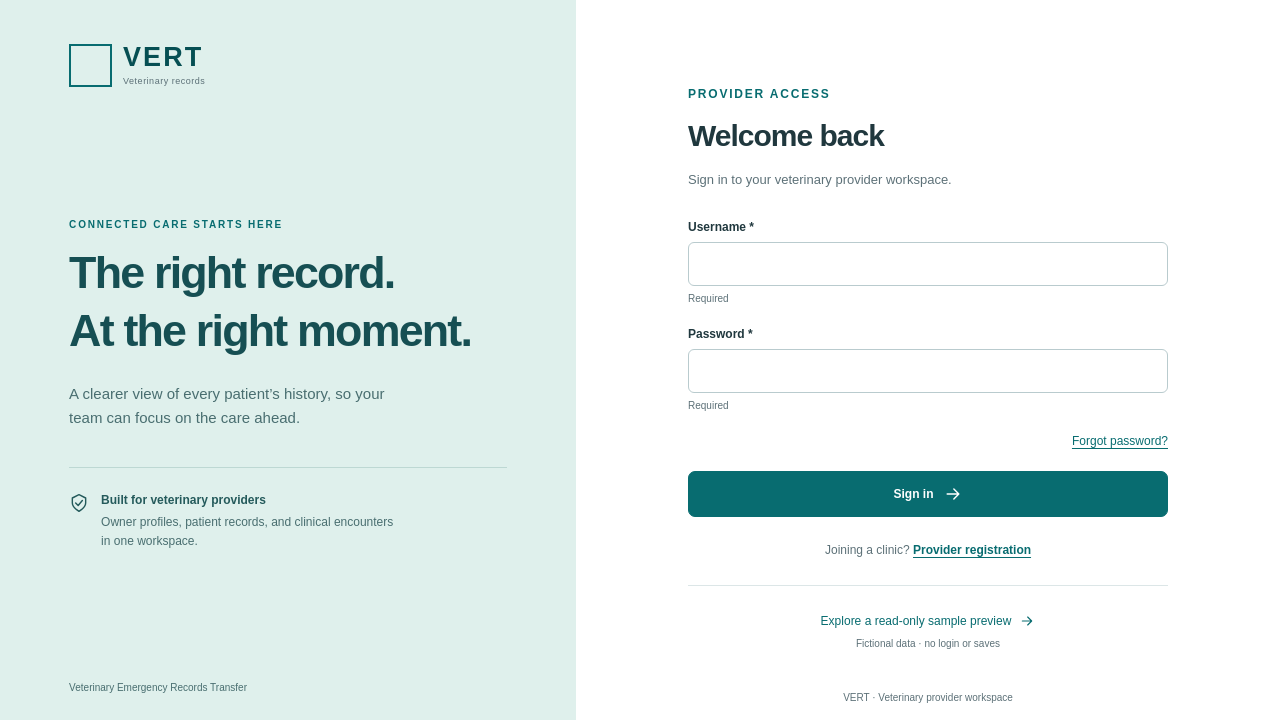
Scenario: provider navigation and integration states › validates login, handles auth failures, and never stores credentials
Click the button "Sign in" at (928,494), box [688,471,1168,517]
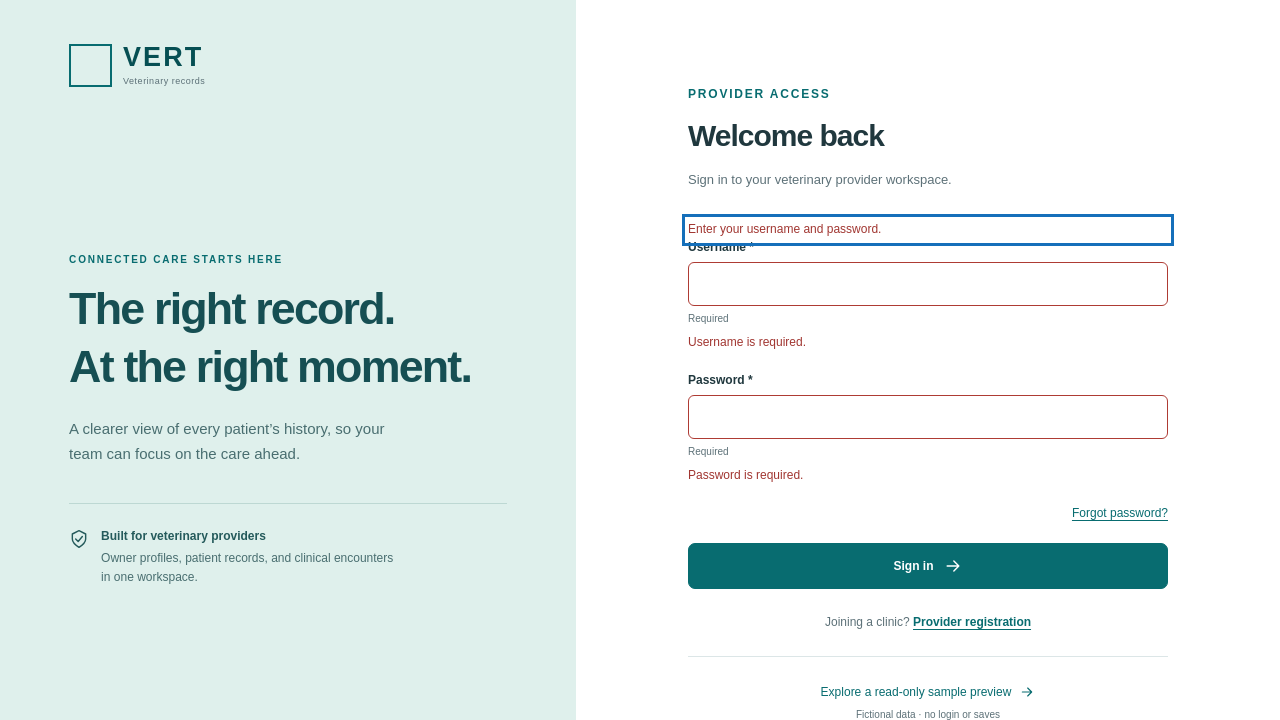
Type "provider" into the field labelled "Username *" at (928,284), box [688,262,1168,306]
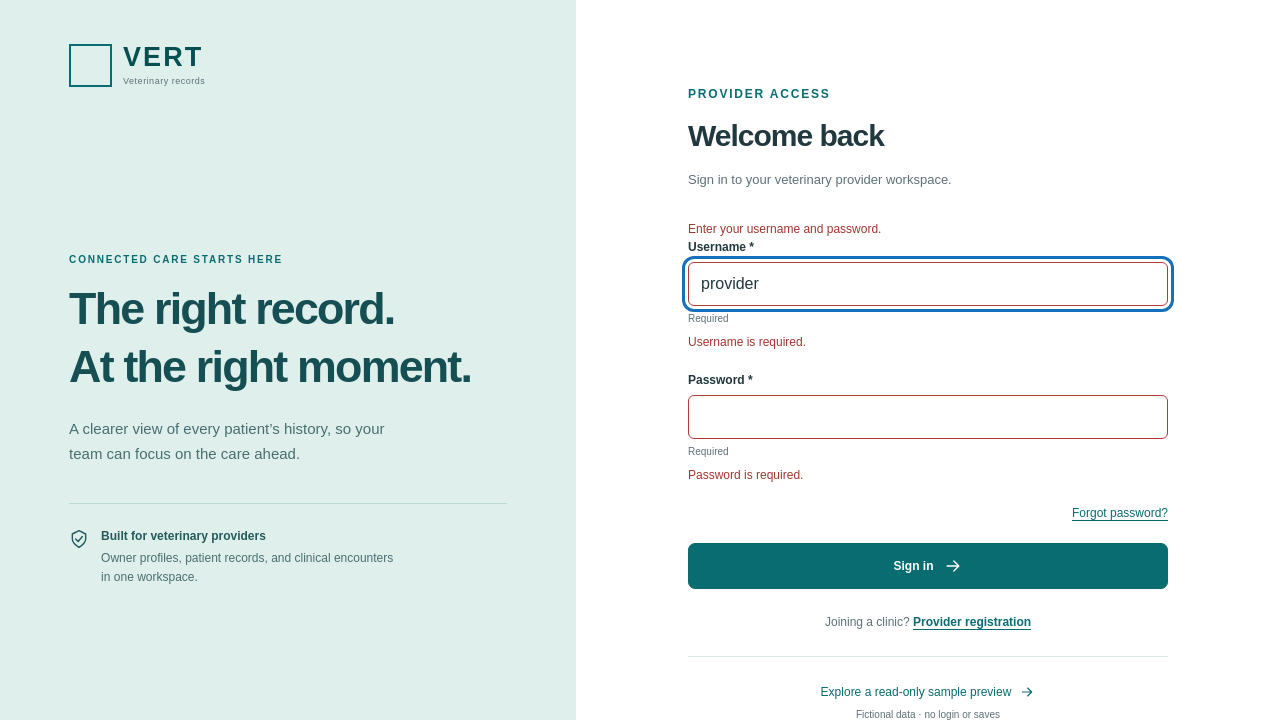
Type "wrong" into the password field labelled "Password *" at (928,417), box [688,395,1168,439]
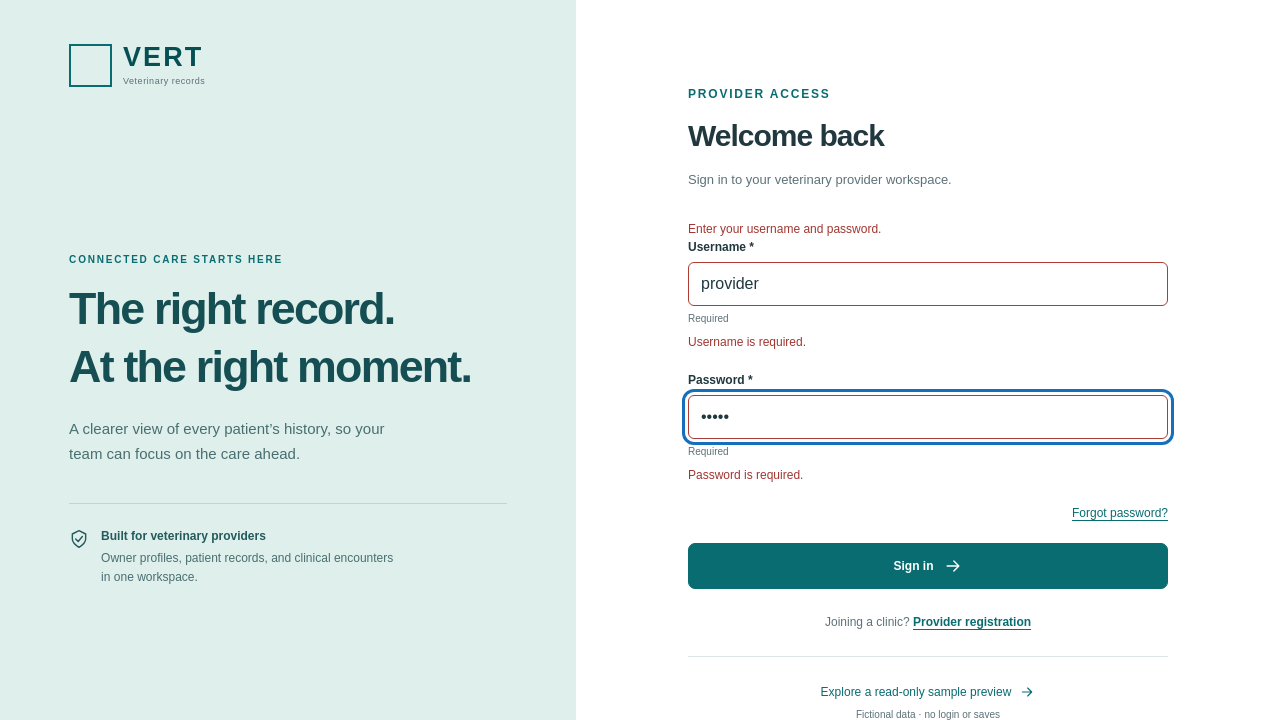
Click the button "Sign in" at (928,566), box [688,543,1168,589]
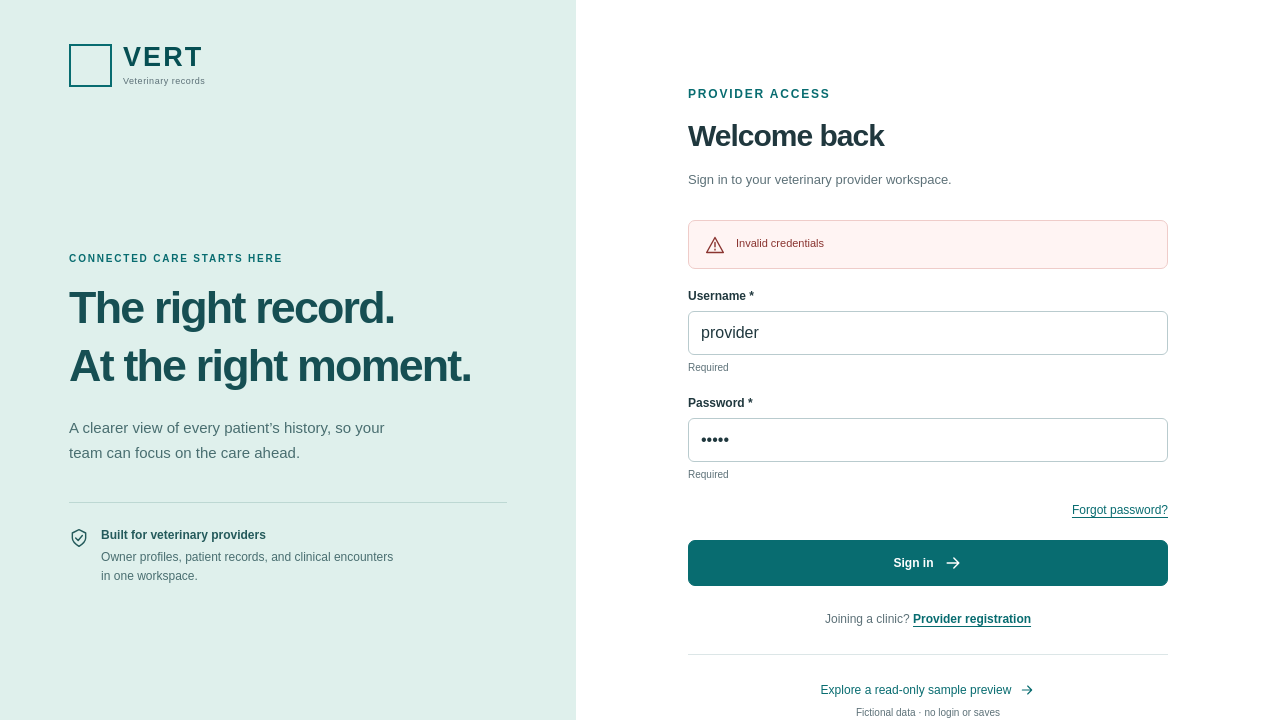
Result: the text "Invalid credentials" is shown at [736,234,824,253]
